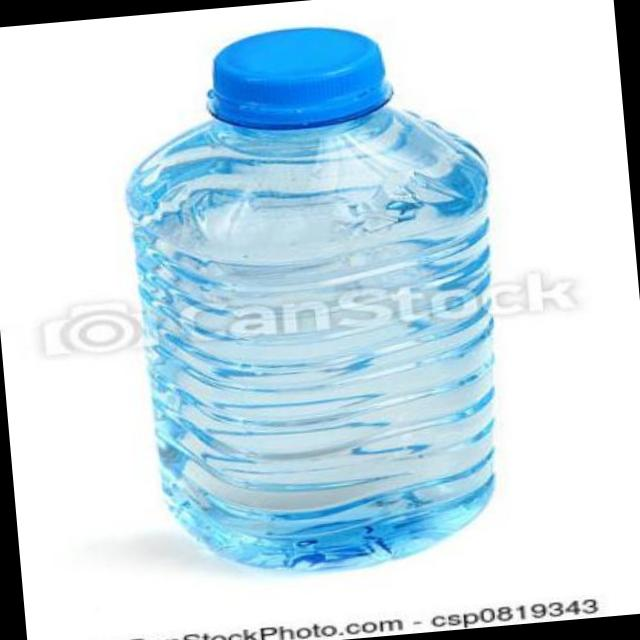plastic_bottle: (112, 12, 522, 586)
